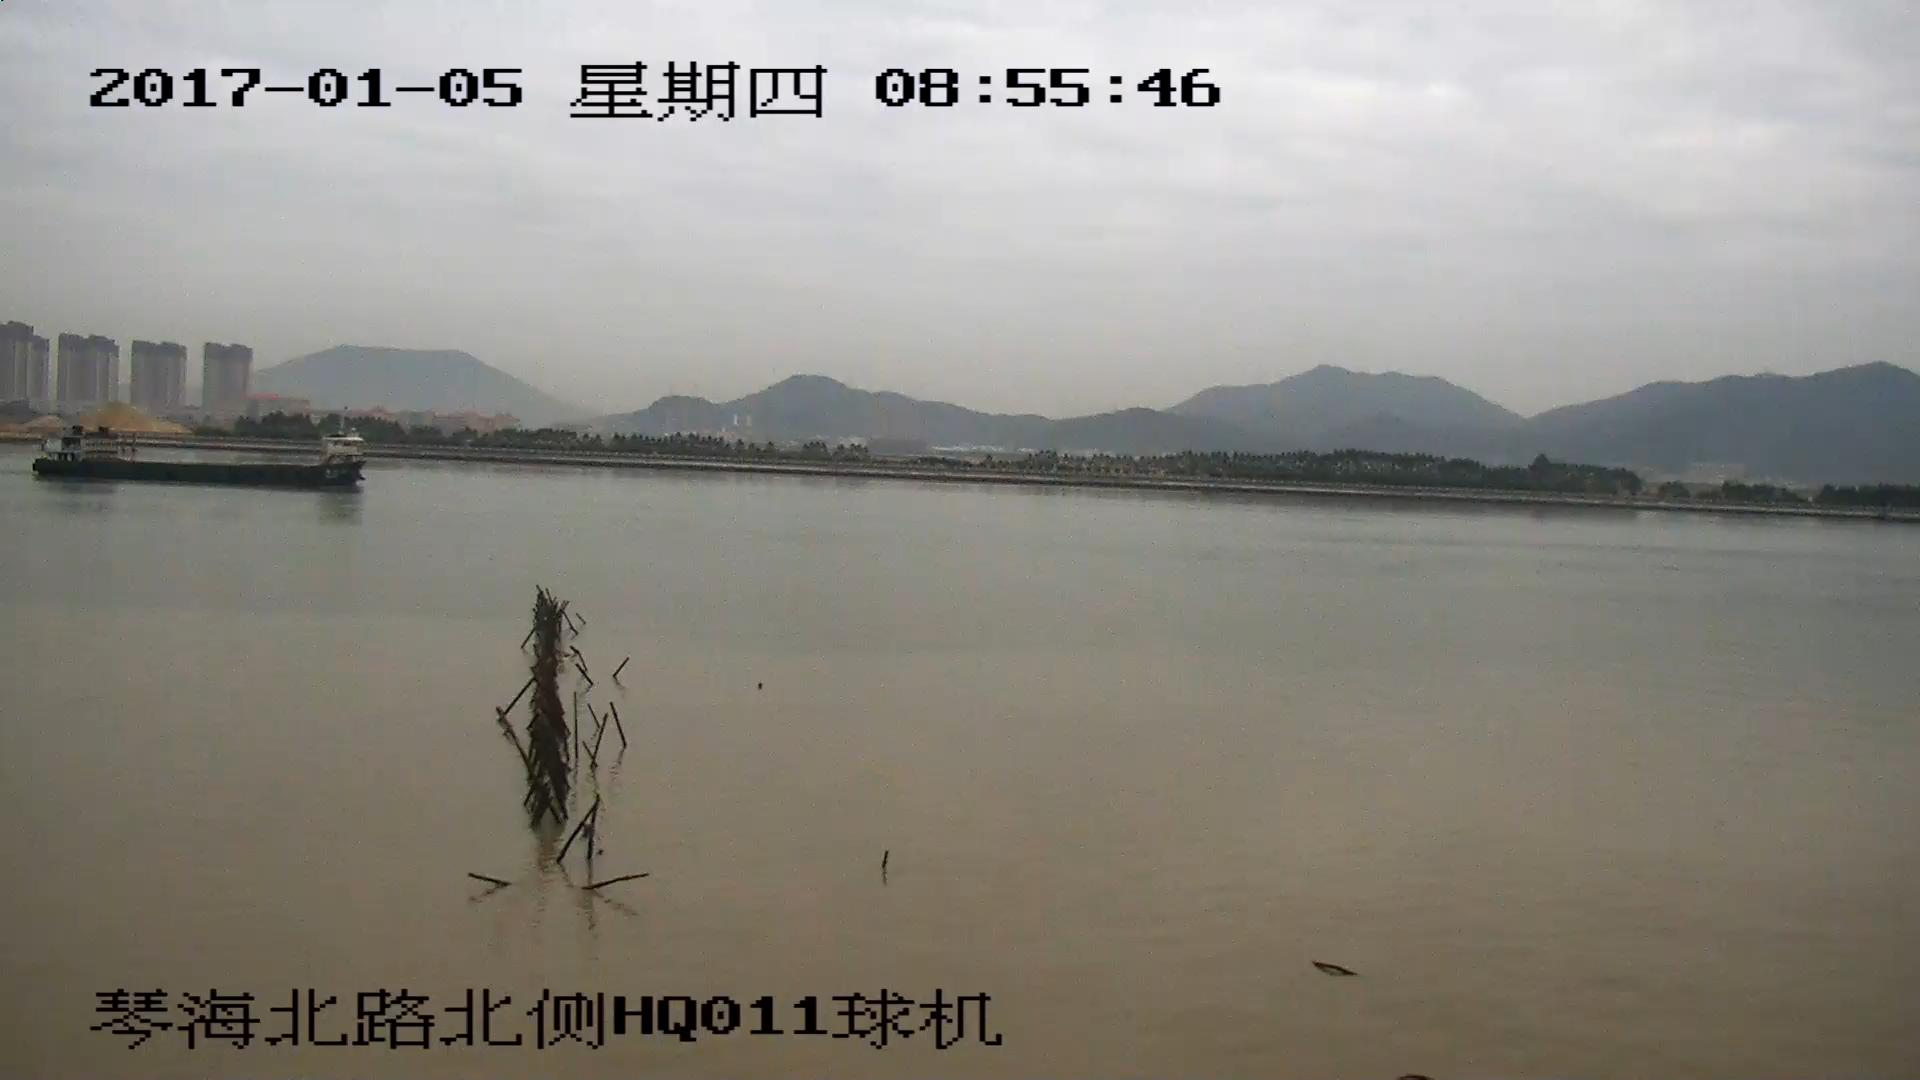general cargo ship: (35, 424, 361, 486)
